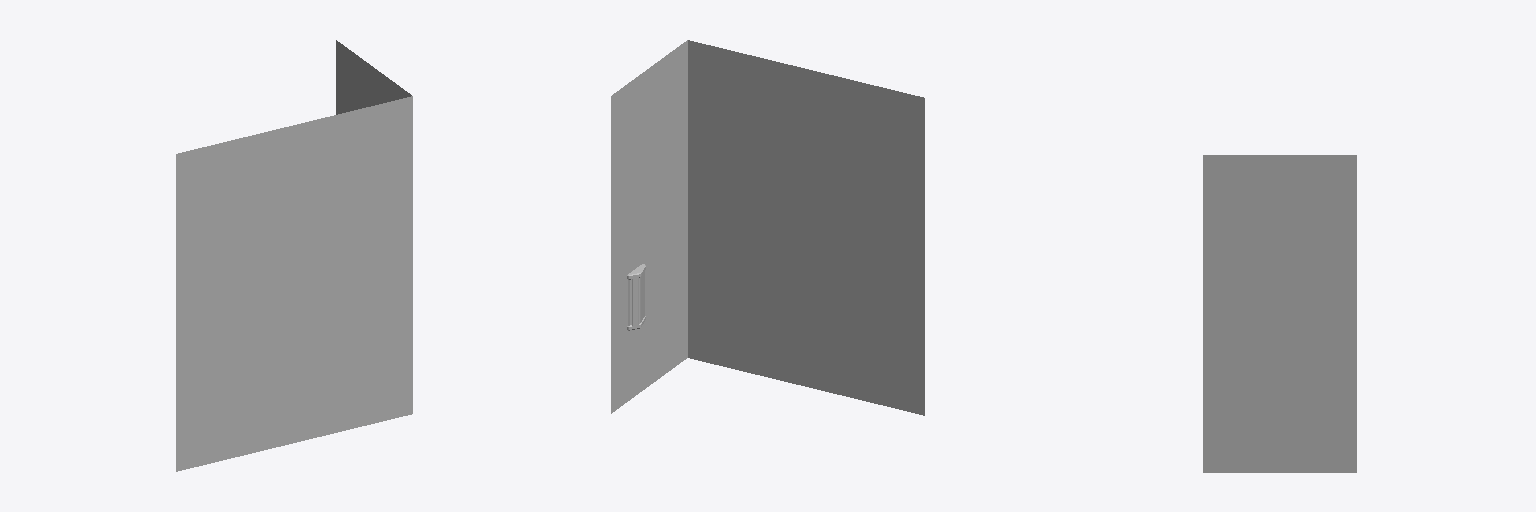
File: box-side.obj
The picture shows the model from 3 angles: view 1: azimuth 30°, elevation 25°; view 2: azimuth 150°, elevation 25°; view 3: azimuth 270°, elevation 25°; orthographic projection.
Visible parts, largest first — view 1: box-side-2, box-side-1; view 2: box-side-2, box-side-1, box-side-0; view 3: box-side-1.
Boxes of the visible parts, <box> form: box-side-2: <box>176,96,412,471</box>; box-side-1: <box>336,40,411,114</box>; box-side-2: <box>688,40,924,415</box>; box-side-1: <box>611,40,687,413</box>; box-side-0: <box>627,264,645,330</box>; box-side-1: <box>1203,155,1356,472</box>.
Size of the model in its own units: 12.7 by 16.26 by 7.11.